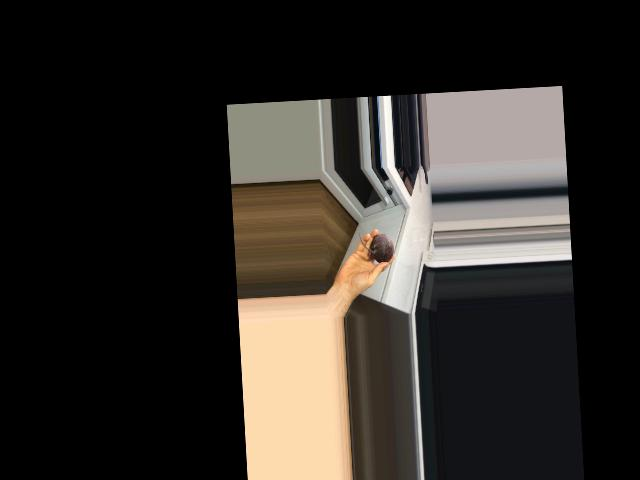beet: (358, 230, 394, 263)
